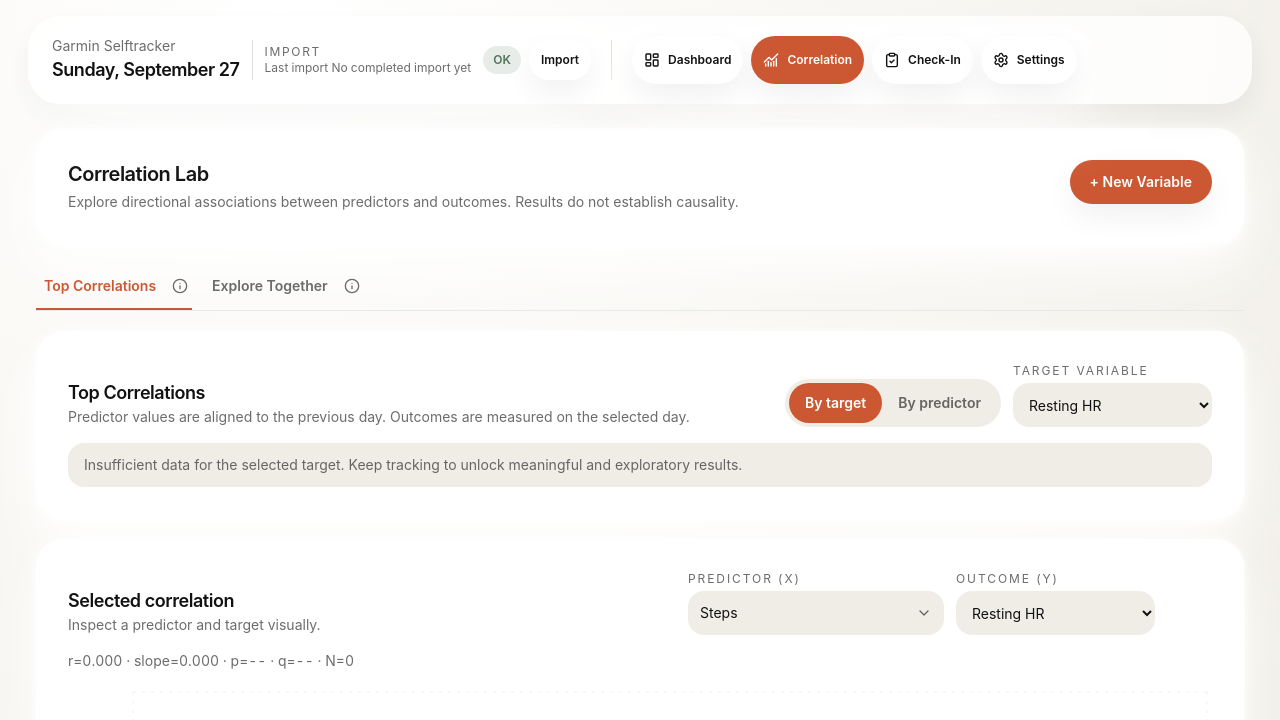
Test: App persistence workflows › shows two correlation tabs with short help and opens Explore Together
Expected: the number of tabs is 2, [36,264,164,308]; [204,264,336,308]
Hover over the button named "About Top Correlations".
mouse_move(180, 286)  # box [168,274,192,298]
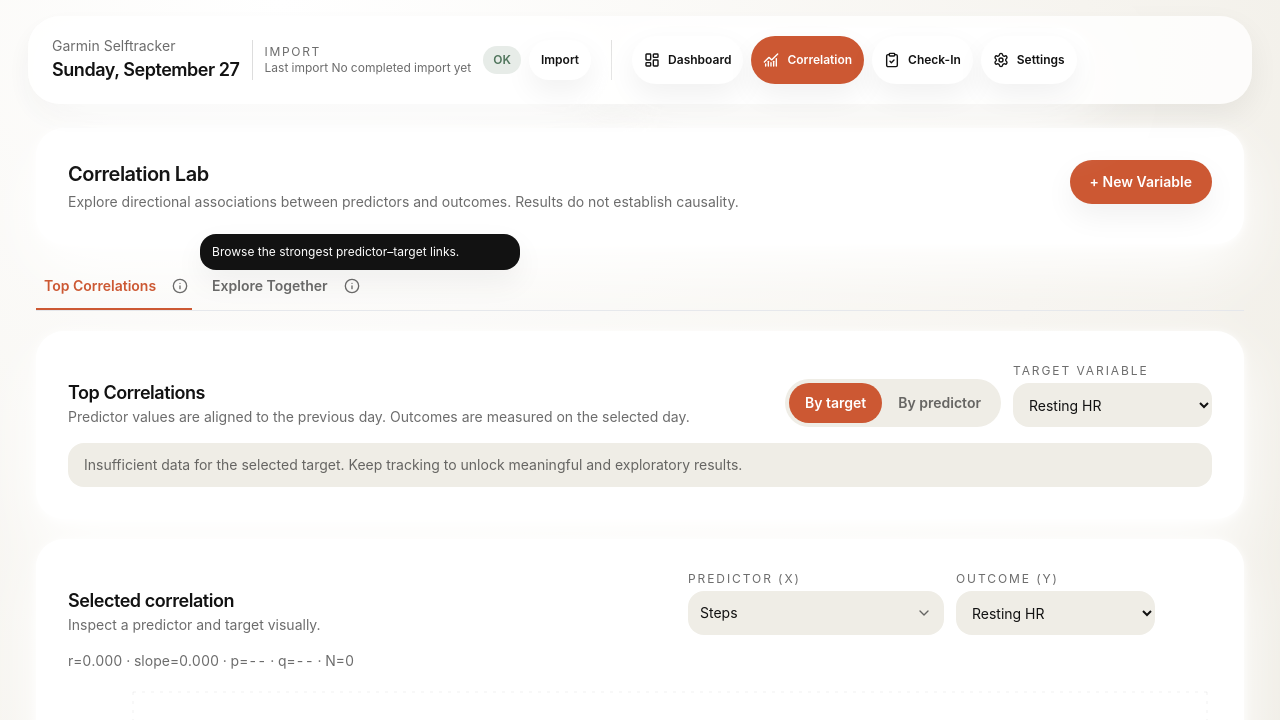
Expected: the tooltip reads "Browse the strongest predictor–target links.", [212,244,459,259]
Hover over the button named "About Explore Together".
mouse_move(352, 286)  # box [340,274,364,298]
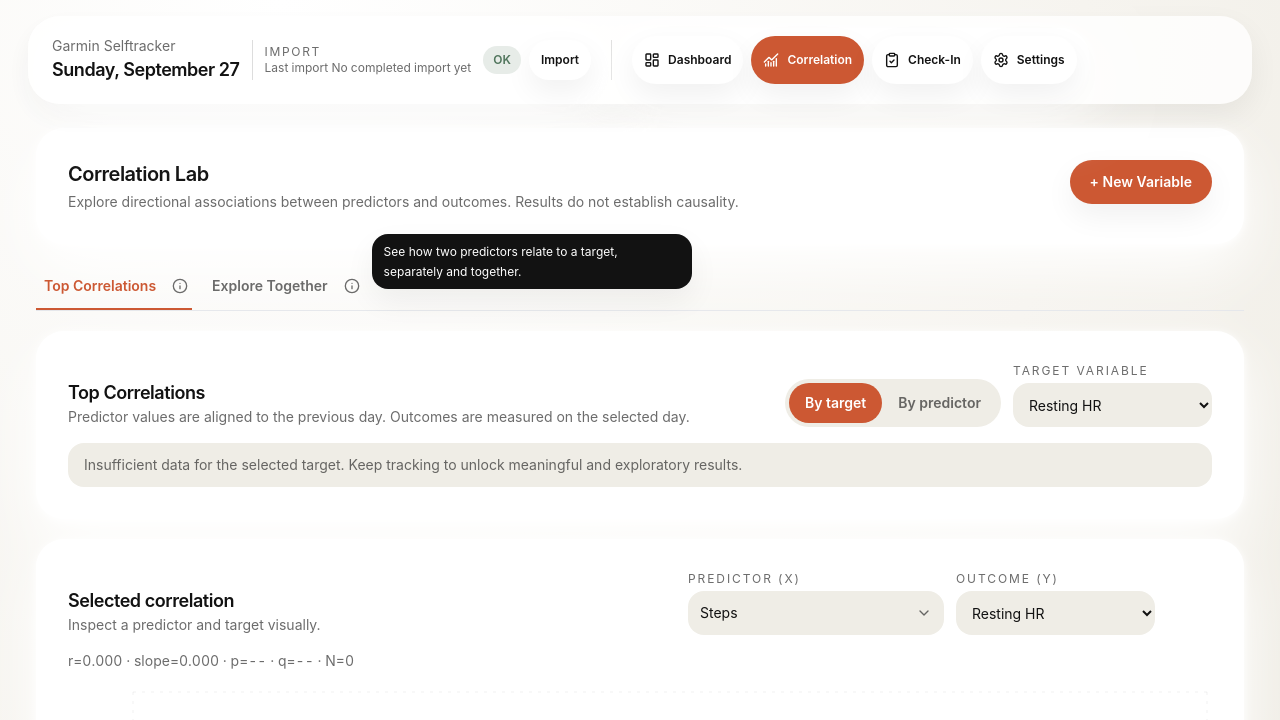
Expected: the tooltip reads "See how two predictors relate to a target, separately and together.", [384,244,618,278]
Click the tab "Explore Together".
click(270, 286)  # box [204,264,336,308]
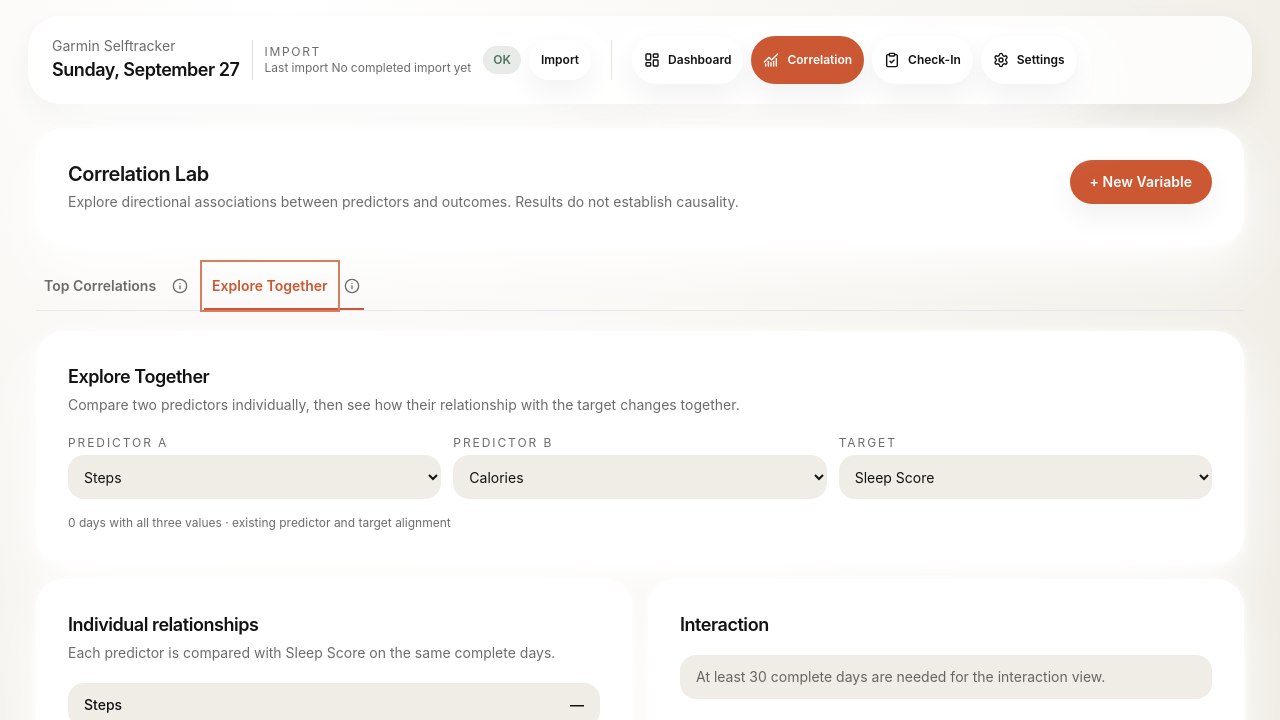
Expected: the dropdown labelled "Predictor A" is shown, [68,455,441,499]
Expected: the heading "Individual relationships" is shown, [68,614,258,635]
Expected: the heading "Interaction" is shown, [680,614,769,635]
